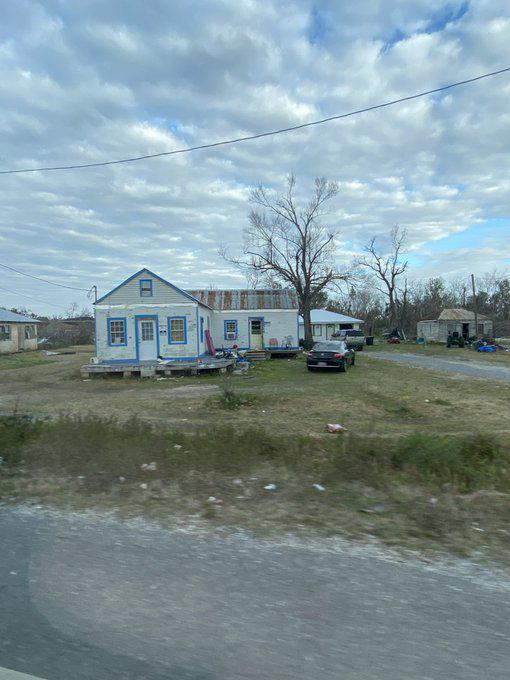minor: (80, 262, 318, 378)
